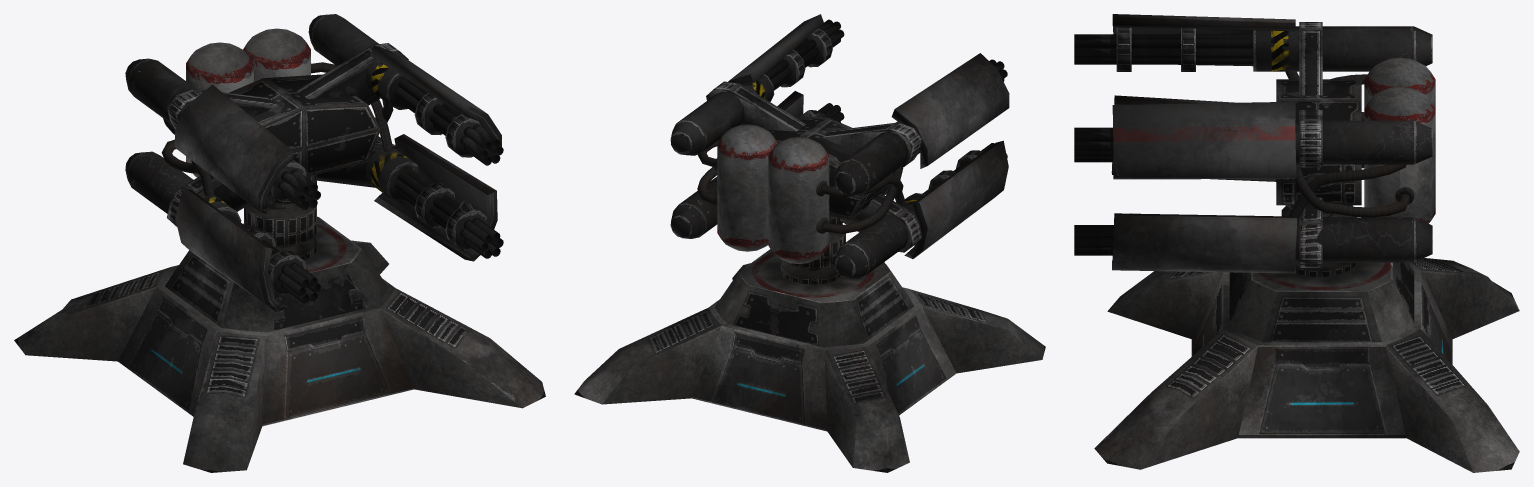
File: Heavy_machineguner.obj
3 views of the same model, side by side, from view 1: azimuth 30°, elevation 25°; view 2: azimuth 150°, elevation 25°; view 3: azimuth 270°, elevation 25° (orthographic). The views are drawn at different scales.
Parts seen in each view (by area): view 1: Heavy_machineguner.obj; view 2: Heavy_machineguner.obj; view 3: Heavy_machineguner.obj.
Part boxes in pixels (x1,y1,x2,y2): Heavy_machineguner.obj: (14,14,545,472); Heavy_machineguner.obj: (574,14,1045,472); Heavy_machineguner.obj: (1074,14,1519,472).
Size of the model in its own units: 1.53 by 1.24 by 1.55.
1 material, 1 textured.
